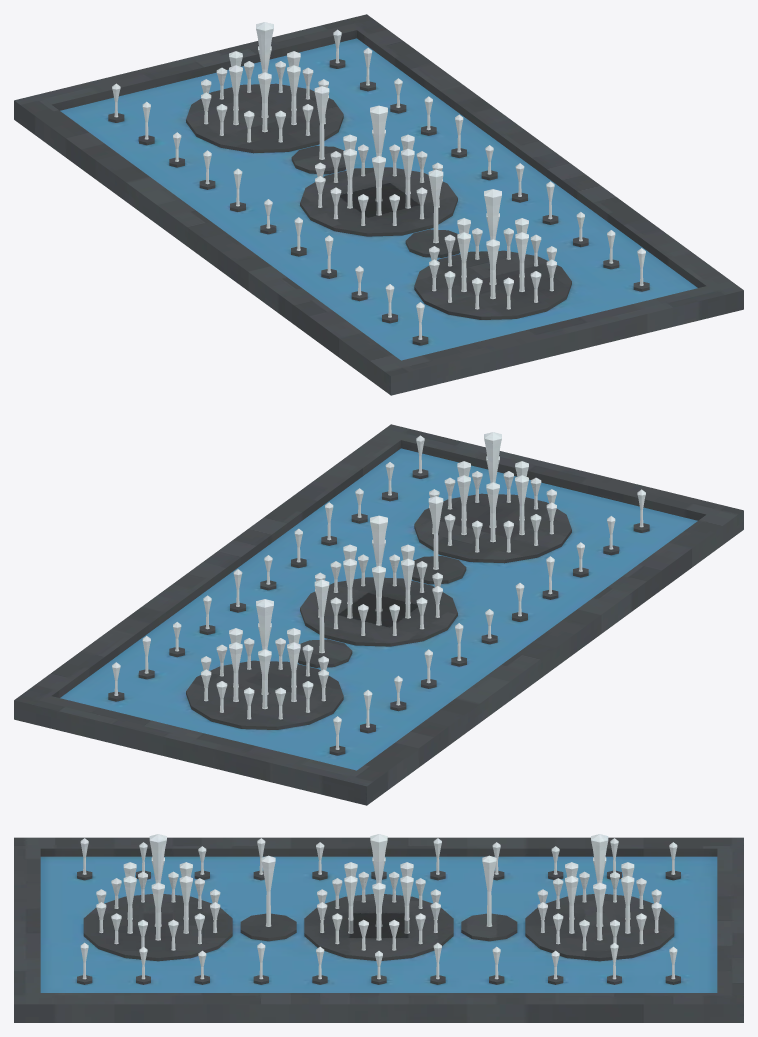
File: fountain.glb
The picture shows the model from 3 angles, top to bottom: view 1: azimuth 30°, elevation 25°; view 2: azimuth 150°, elevation 25°; view 3: azimuth 270°, elevation 25°; orthographic projection. The views are drawn at different scales.
Visible parts, largest first — view 1: fountain_LOD0; view 2: fountain_LOD0; view 3: fountain_LOD0.
Boxes of the visible parts, x1,y1,x2,y2 form: fountain_LOD0: (14, 14, 743, 395); fountain_LOD0: (14, 424, 743, 805); fountain_LOD0: (14, 834, 743, 1022).
Size of what is drawn, in the model's own units: 13.4 by 3.95 by 24.8.
Materials: 1 (1 with a texture image).
